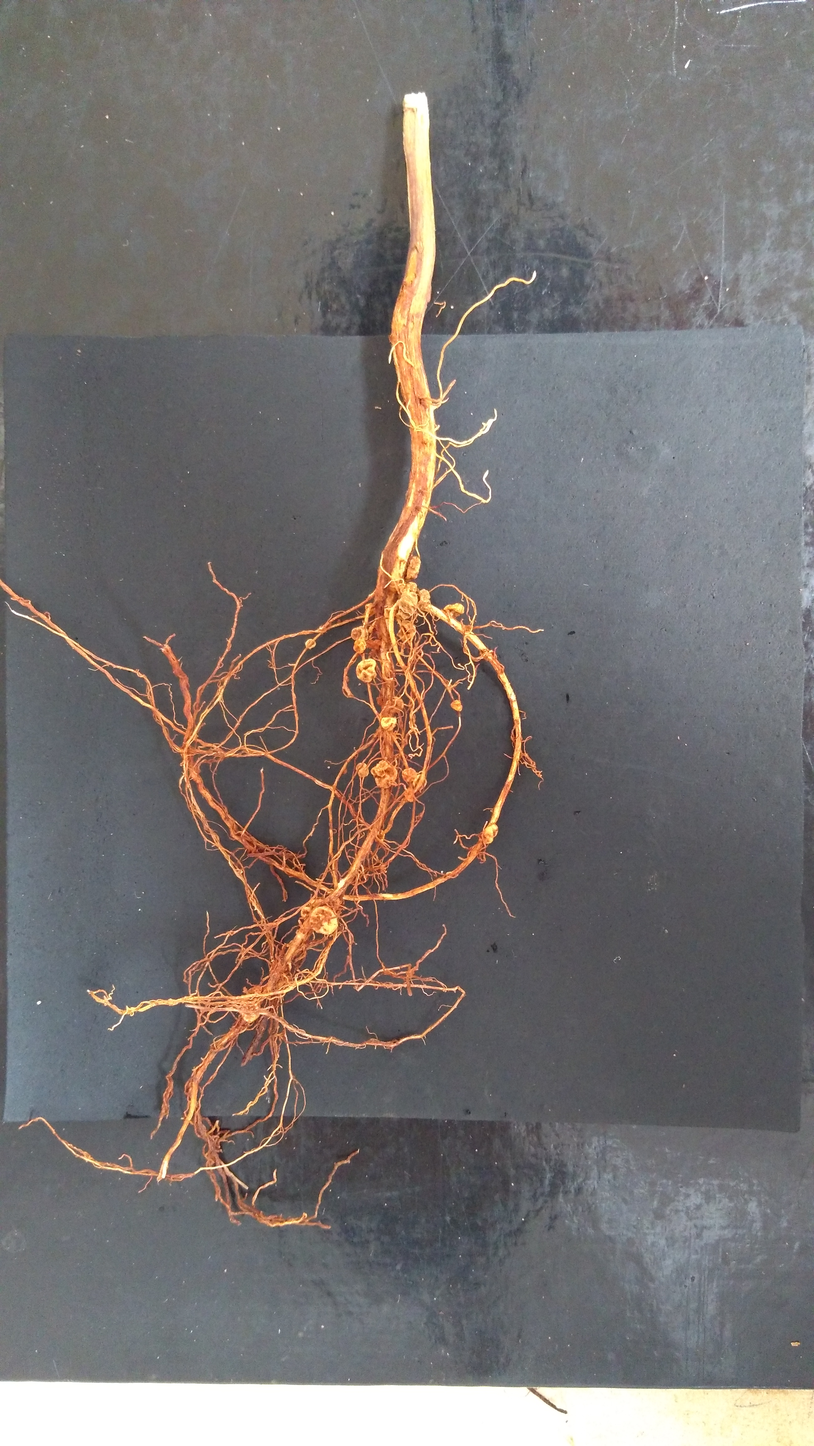nodule: (308, 905, 339, 935), (370, 760, 398, 789), (240, 996, 261, 1024), (393, 599, 417, 621), (356, 658, 377, 683), (398, 591, 418, 616), (396, 620, 417, 643), (404, 556, 421, 581), (416, 588, 431, 612), (443, 602, 464, 619), (387, 696, 405, 714), (365, 631, 382, 650), (351, 625, 369, 642), (483, 824, 498, 844), (401, 766, 417, 783), (399, 582, 417, 597), (380, 716, 397, 731), (412, 774, 427, 791), (352, 638, 366, 654), (355, 762, 369, 778), (245, 985, 262, 996), (449, 699, 463, 712), (373, 829, 386, 843), (403, 788, 415, 802), (310, 897, 325, 908), (301, 905, 312, 918), (305, 638, 317, 649), (365, 602, 375, 614), (376, 696, 384, 705), (342, 767, 347, 775), (345, 675, 350, 682), (336, 619, 342, 624)
